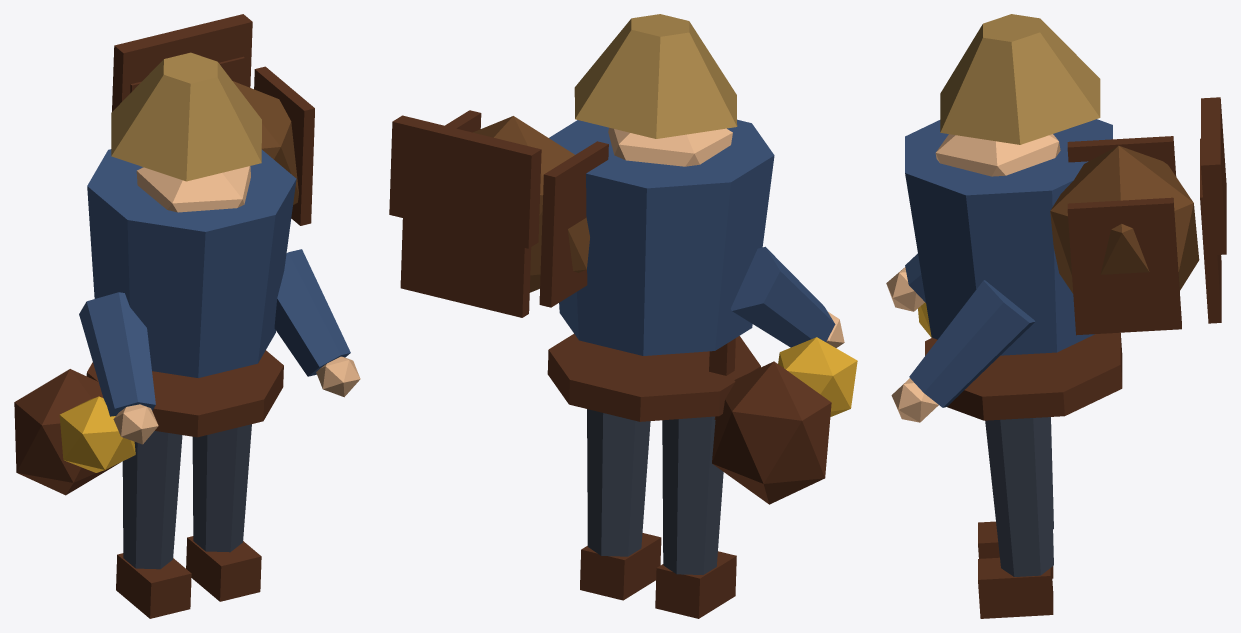
File: npcpose_merchant_walk_10.glb
The picture shows the model from 3 angles, left to right: view 1: azimuth 30°, elevation 25°; view 2: azimuth 150°, elevation 25°; view 3: azimuth 270°, elevation 25°; orthographic projection. The views are drawn at different scales.
Visible parts, largest first — view 1: npcpose; view 2: npcpose; view 3: npcpose.
Part boxes in pixels (<box>): npcpose: <box>14,14,360,618</box>; npcpose: <box>389,14,857,618</box>; npcpose: <box>886,14,1226,618</box>.
Bounding box in the file's own units: 1.2 × 1.88 × 1.03.
